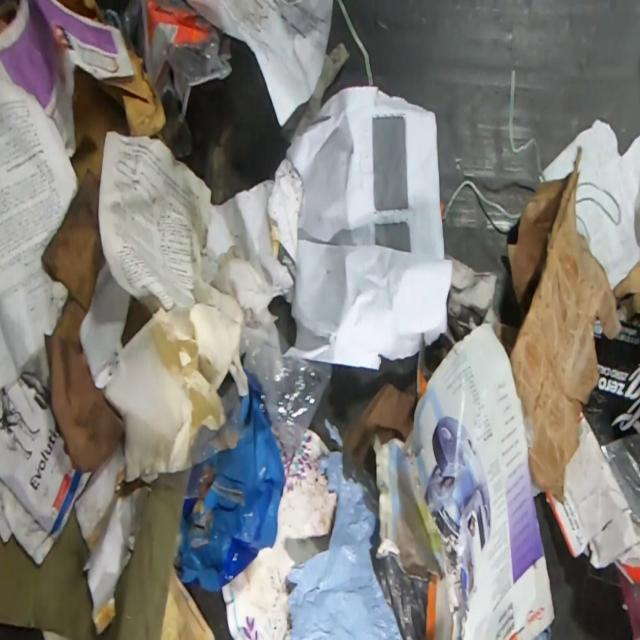cardboard: (506, 145, 623, 499), (0, 467, 191, 639), (40, 165, 124, 472), (70, 49, 167, 188)
rigid_plastic: (117, 0, 233, 156)
soft_plastic: (286, 417, 428, 639), (175, 369, 285, 594), (244, 328, 334, 483)
